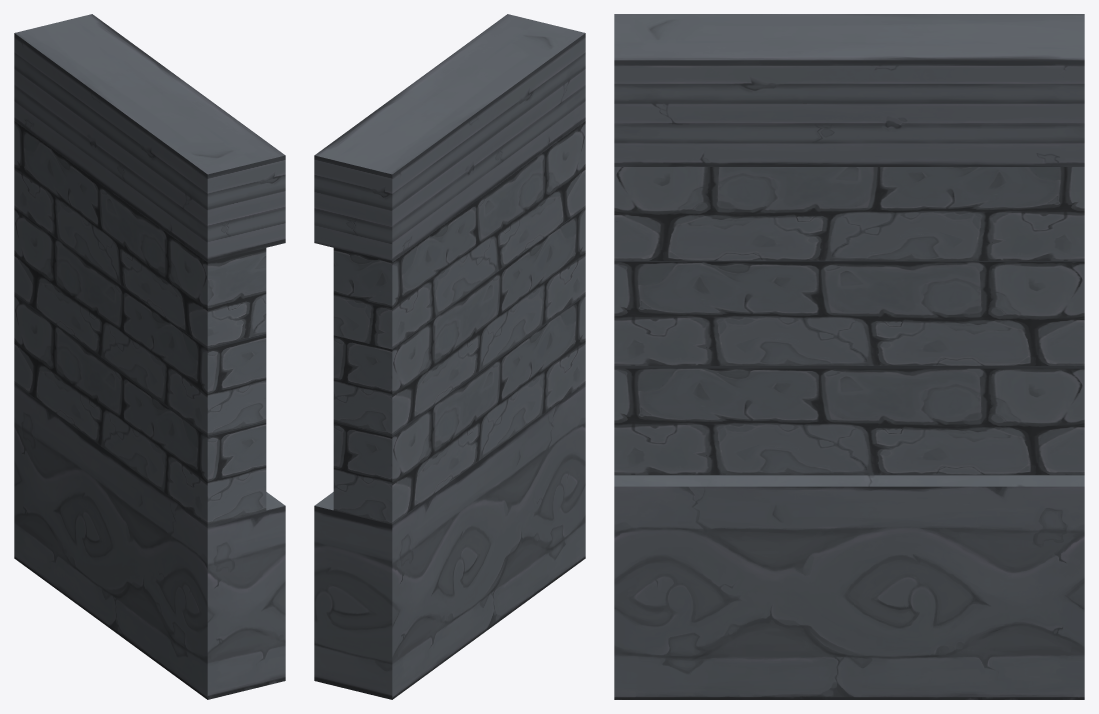
The model's file is Tembok anjay2.fbx.
3 views of the same model, side by side, from view 1: azimuth 30°, elevation 25°; view 2: azimuth 150°, elevation 25°; view 3: azimuth 270°, elevation 25° (orthographic). The views are drawn at different scales.
Visible parts, largest first — view 1: Plane.003; view 2: Plane.003; view 3: Plane.003.
Boxes of the visible parts, <box> form: Plane.003: <box>14,14,285,699</box>; Plane.003: <box>314,14,585,699</box>; Plane.003: <box>614,14,1084,699</box>.
Bounding box in the file's own units: 46.57 × 300 × 200.
